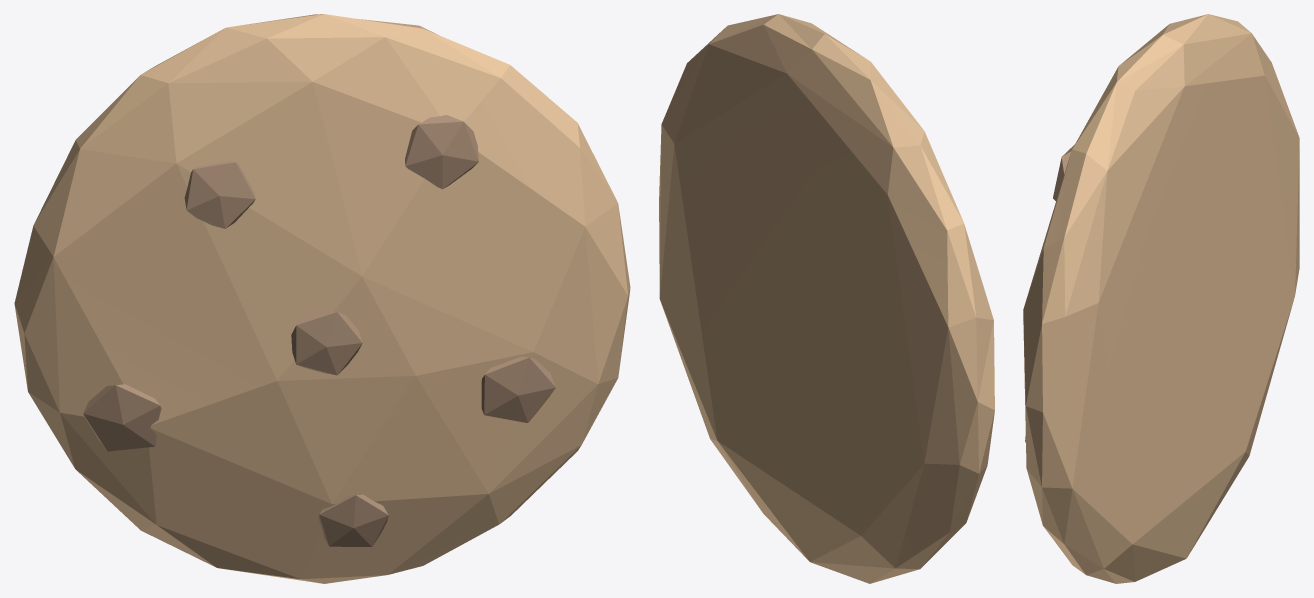
Rendered from cookie.fbx.
The picture shows the model from 3 angles, left to right: view 1: azimuth 30°, elevation 25°; view 2: azimuth 150°, elevation 25°; view 3: azimuth 270°, elevation 25°; orthographic projection. The views are drawn at different scales.
Visible parts, largest first — view 1: Cookie; view 2: Cookie; view 3: Cookie.
Boxes of the visible parts, x1,y1,x2,y2 form: Cookie: (14, 14, 630, 583); Cookie: (659, 14, 994, 583); Cookie: (1023, 14, 1299, 583).
Size of the model in its own units: 1.71 by 1.92 by 0.9047.
